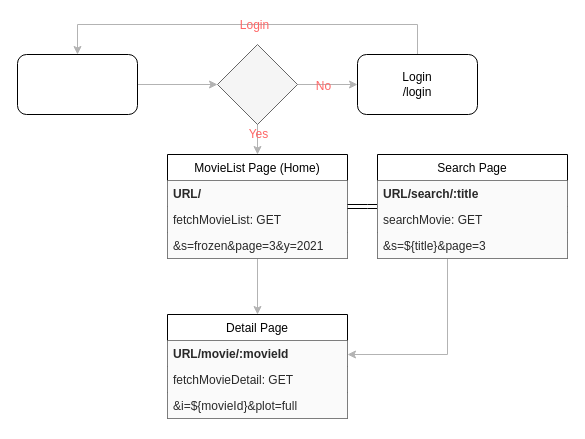
The diagram is 585 pixels wide and 439 high, and some of its shapes have lost their labels. Here are the shapes that lost their labels. From the top down, the centre of each, then its label:
pixel 77 84: App
pixel 257 84: Logged in
